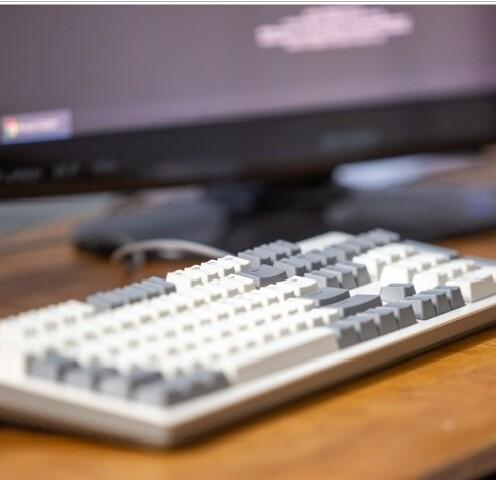keyboard: (0, 226, 495, 448)
